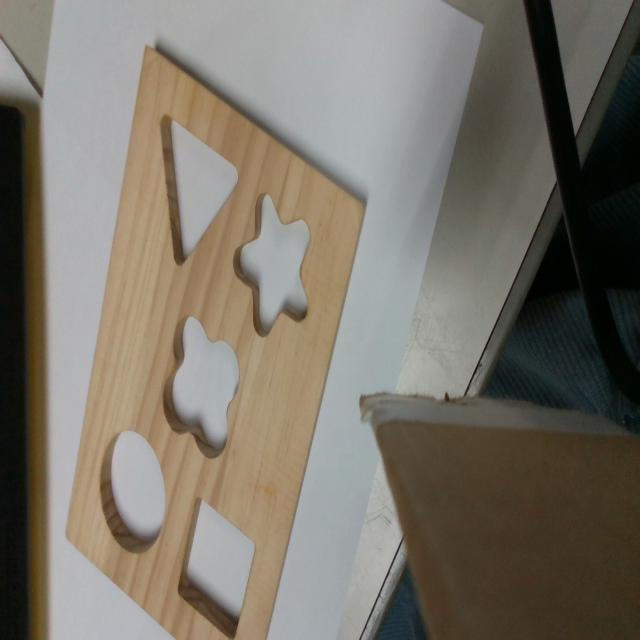circle: (102, 433, 166, 547)
flower: (162, 317, 239, 460)
square: (176, 496, 256, 638)
star: (232, 194, 310, 336)
triangle: (158, 113, 241, 269)
